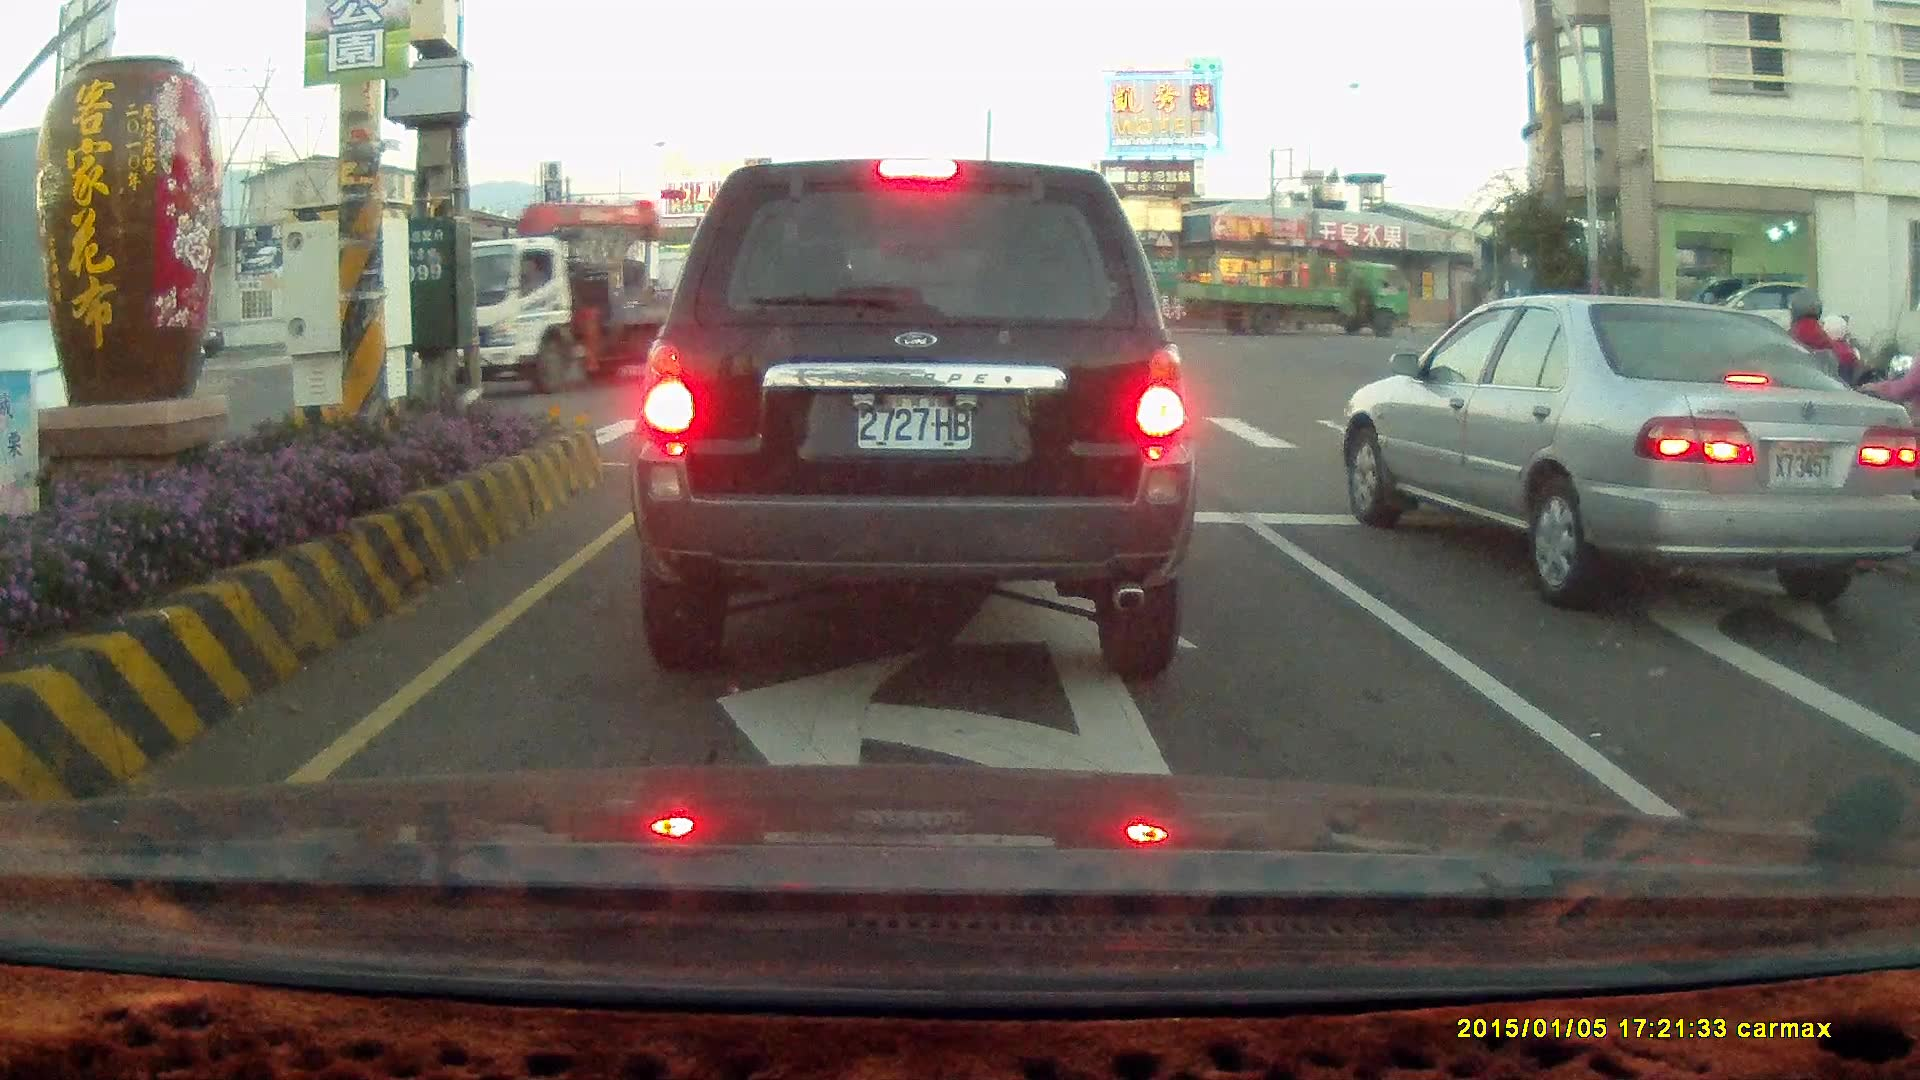rider: (1720, 287, 1860, 543), (1811, 349, 1920, 580)
vehicle: (626, 154, 1197, 680), (1338, 292, 1919, 609), (1353, 296, 1902, 594), (400, 238, 711, 399), (1656, 276, 1852, 372), (1202, 256, 1410, 340), (1668, 275, 1823, 373), (1896, 493, 1920, 836)
